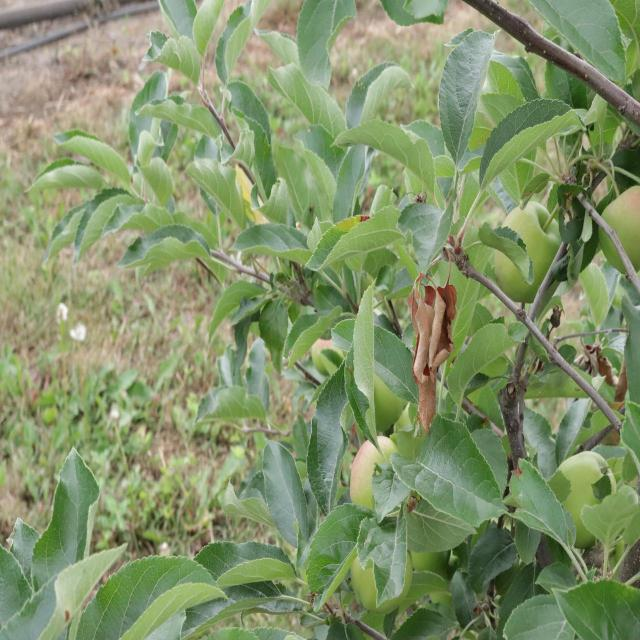-FireBlight-: (409, 263, 455, 429)
